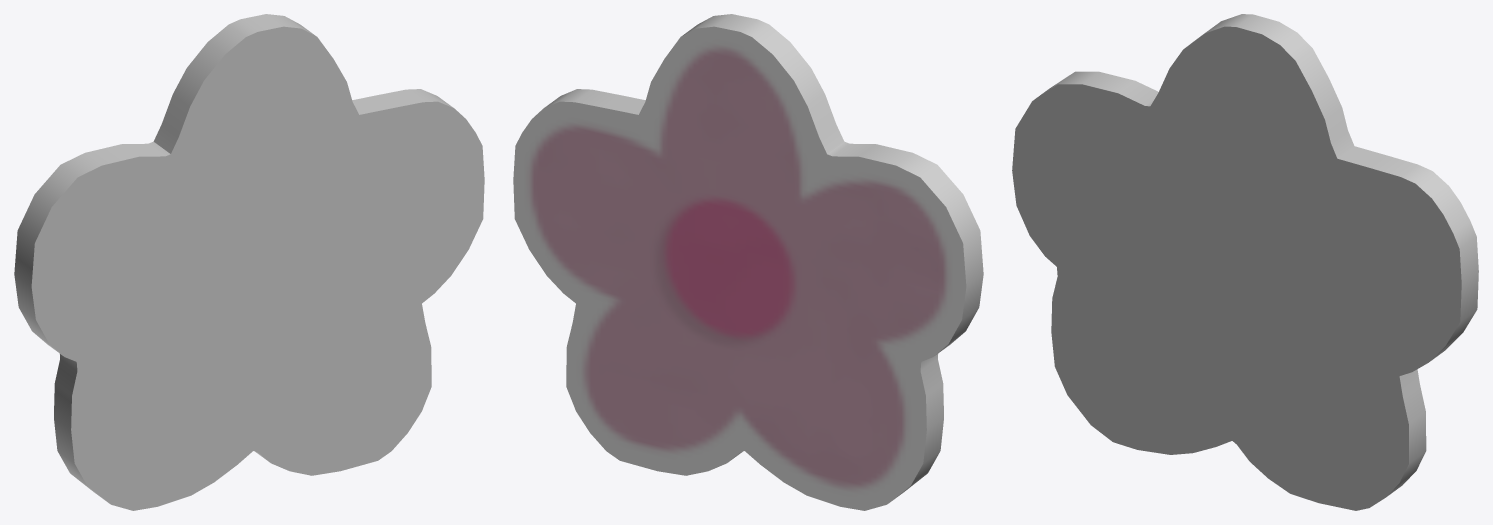
File: pinkFlower.fbx
The picture shows the model from 3 angles, left to right: view 1: azimuth 30°, elevation 25°; view 2: azimuth 150°, elevation 25°; view 3: azimuth 330°, elevation 25°; orthographic projection.
Parts seen in each view (by area): view 1: flower; view 2: flower; view 3: flower.
Part boxes in pixels (x1,y1,x2,y2): flower: (14,14,484,510); flower: (513,14,983,510); flower: (1012,14,1478,510).
Bounding box in the file's own units: 41.2 × 39.93 × 2.72.
